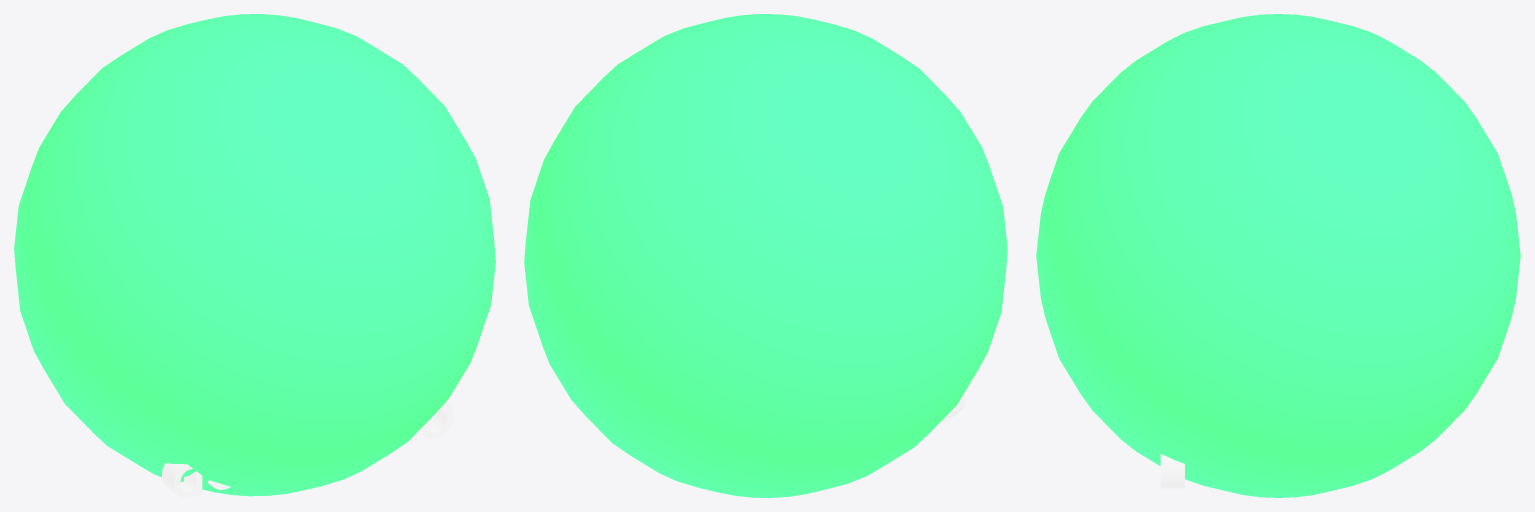
Rendered from vela-de-ignicao.glb.
3 views of the same model, side by side, from view 1: azimuth 30°, elevation 25°; view 2: azimuth 150°, elevation 25°; view 3: azimuth 270°, elevation 25° (orthographic).
Parts seen in each view (by area): view 1: Sphere.008, Text.009; view 2: Sphere.008; view 3: Sphere.008, Text.009.
Part boxes in pixels (x1=…): Sphere.008: x1=14, y1=14, x2=495, y2=496; Text.009: x1=162, y1=402, x2=453, y2=497; Sphere.008: x1=524, y1=14, x2=1007, y2=497; Sphere.008: x1=1036, y1=14, x2=1520, y2=497; Text.009: x1=1160, y1=454, x2=1184, y2=488.
Bounding box in the file's own units: 5.15 × 5.15 × 5.15.
